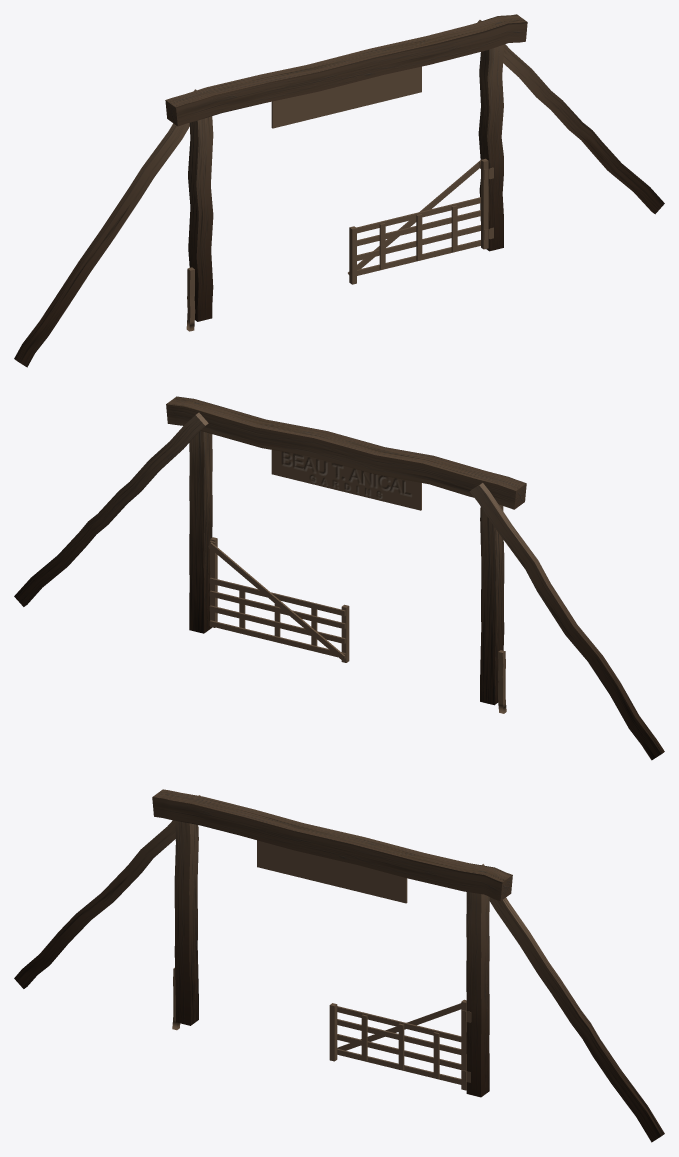
File: Gate.gltf
The picture shows the model from 3 angles, top to bottom: view 1: azimuth 30°, elevation 25°; view 2: azimuth 150°, elevation 25°; view 3: azimuth 330°, elevation 25°; orthographic projection.
Visible parts, largest first — view 1: Main, LeftGate, Sign; view 2: Main, LeftGate, Sign; view 3: Main, LeftGate, Sign.
Boxes of the visible parts, x1,y1,x2,y2 form: Main: [14, 14, 664, 367]; LeftGate: [348, 158, 488, 284]; Sign: [271, 66, 421, 128]; Main: [14, 396, 664, 760]; LeftGate: [208, 537, 349, 662]; Sign: [271, 450, 421, 510]; Main: [14, 789, 664, 1142]; LeftGate: [329, 999, 466, 1090]; Sign: [257, 840, 407, 903].
Size of the model in its own units: 16.65 by 5.82 by 0.6983.
Materials: 1 (1 with a texture image).
